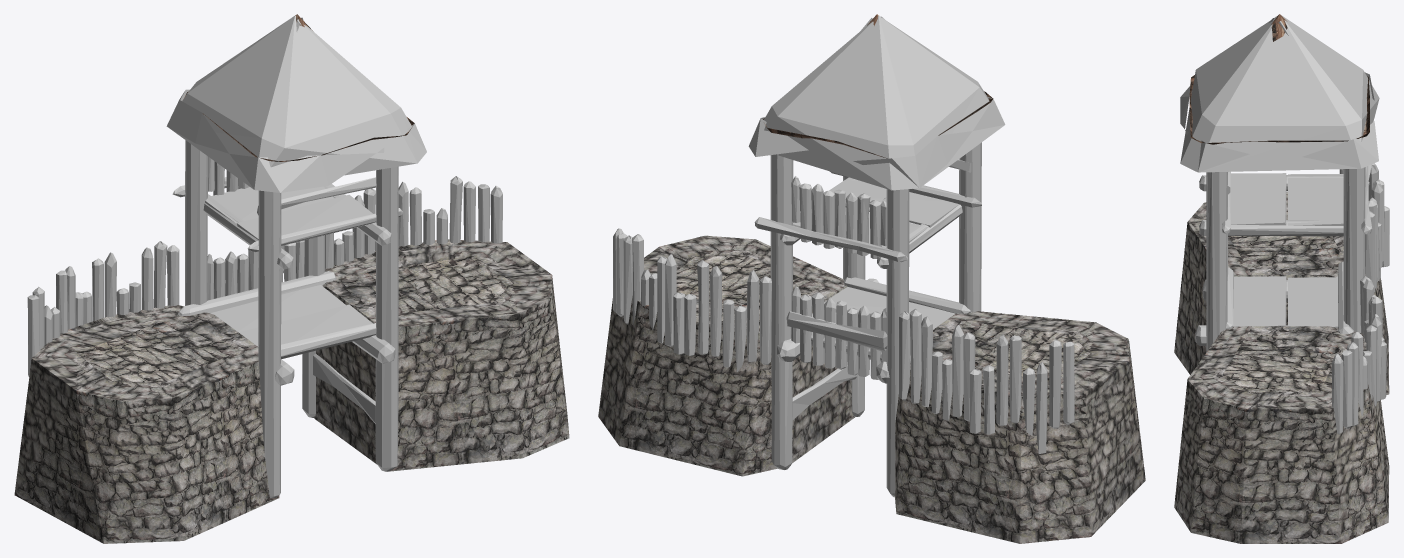
The model's file is TowerGate_1b_LOD2.fbx.
3 views of the same model, side by side, from view 1: azimuth 30°, elevation 25°; view 2: azimuth 150°, elevation 25°; view 3: azimuth 270°, elevation 25° (orthographic). The views are drawn at different scales.
Visible parts, largest first — view 1: Cube_5, Cylinder_1, Cube; view 2: Cube_5, Cylinder_1, Cube; view 3: Cube_5, Cylinder_1, Cube, Cube_1.
Boxes of the visible parts, x1,y1,x2,y2 form: Cube_5: (14,239,569,543); Cylinder_1: (27,17,502,498); Cube: (166,16,426,192); Cube_5: (598,235,1145,543); Cylinder_1: (613,16,1074,497); Cube: (748,16,1005,190); Cube_5: (1174,192,1389,543); Cylinder_1: (1195,17,1389,434); Cube: (1180,15,1379,172); Cube_1: (1189,14,1369,144).
Size of the model in its own units: 1853 by 741 by 1579.
